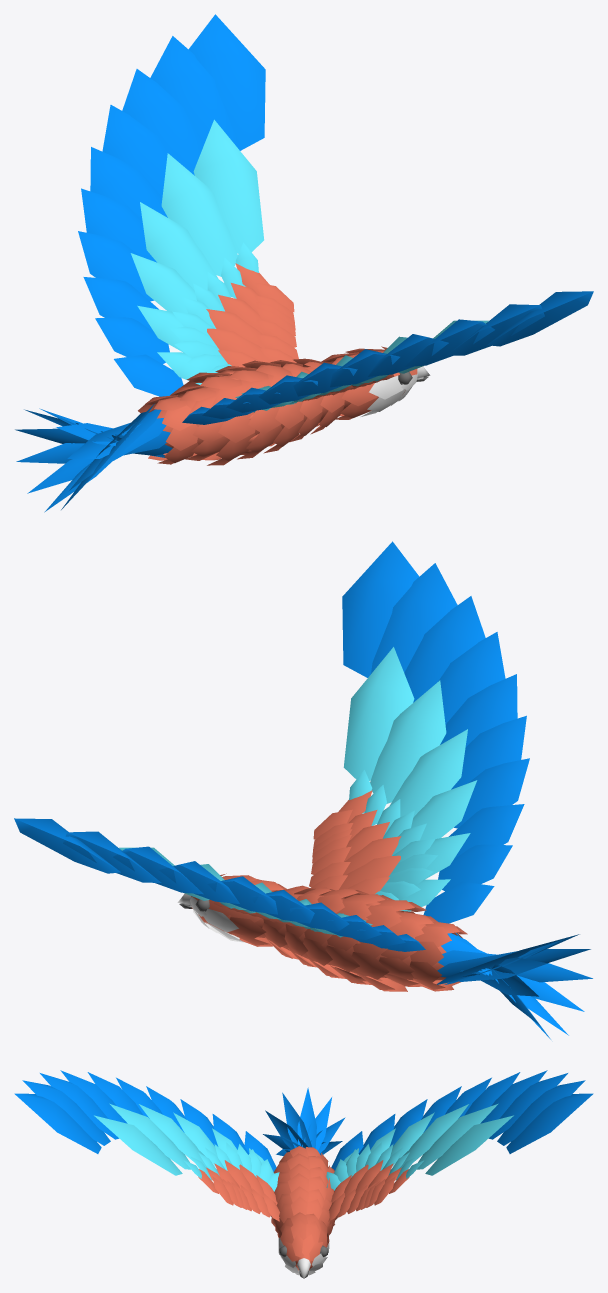
File: bird.gltf
3 renders of one model, top to bottom at view 1: azimuth 30°, elevation 25°; view 2: azimuth 150°, elevation 25°; view 3: azimuth 270°, elevation 25°, orthographic. The views are drawn at different scales.
Parts seen in each view (by area): view 1: Parrot; view 2: Parrot; view 3: Parrot.
Part boxes in pixels (x1,y1,x2,y2): Parrot: [15, 14, 593, 512]; Parrot: [14, 541, 592, 1039]; Parrot: [14, 1070, 593, 1278].
Bounding box in the file's own units: 22.01 × 14.56 × 37.08.
